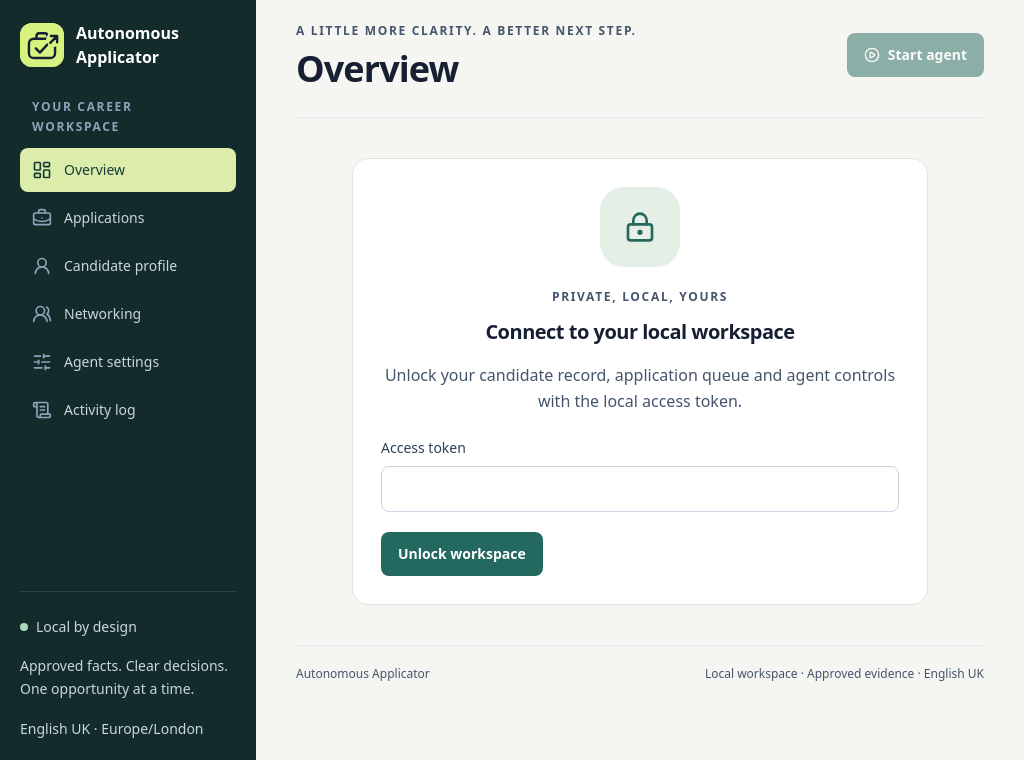
Test: opens and closes only the requested opportunity form
In the password field labelled "Access token": (640, 489) [381,466,899,512], type "fixture"
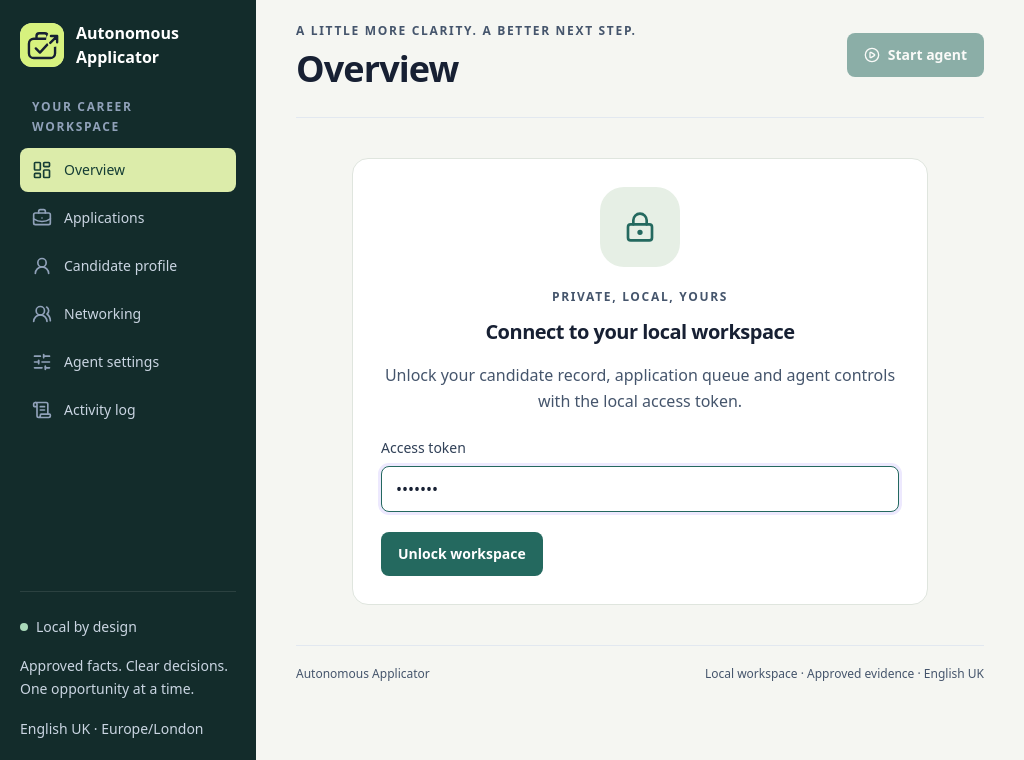
Click the button "Unlock workspace": (462, 554) [381,532,543,576]
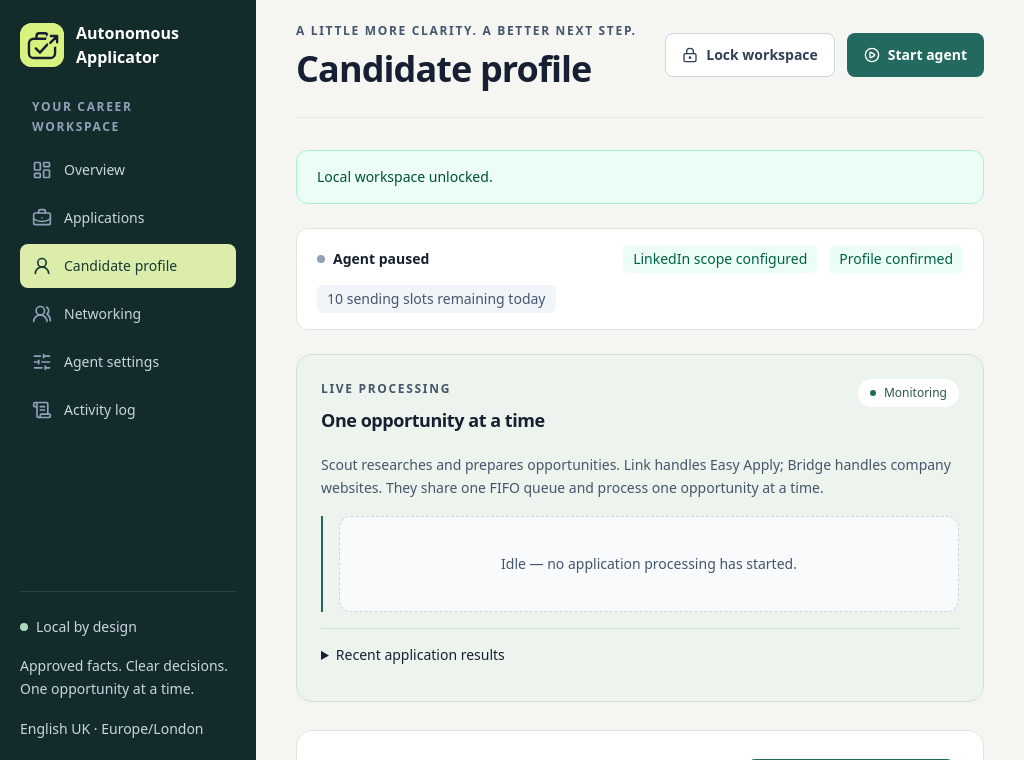
Check: the text "Local workspace unlocked." is shown, box [296,150,984,204]
Click the button "Applications": (128, 218) [20,196,236,240]
(page scrolled)
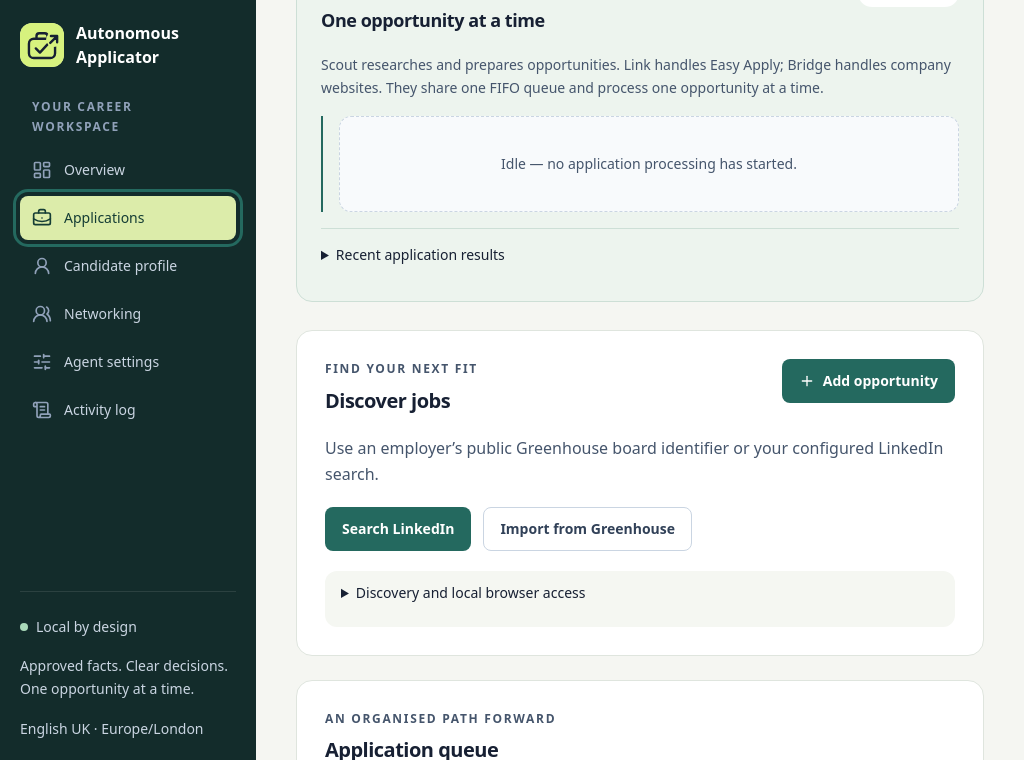
Click the button "Add opportunity": (868, 381) [782,359,955,403]
(page scrolled)
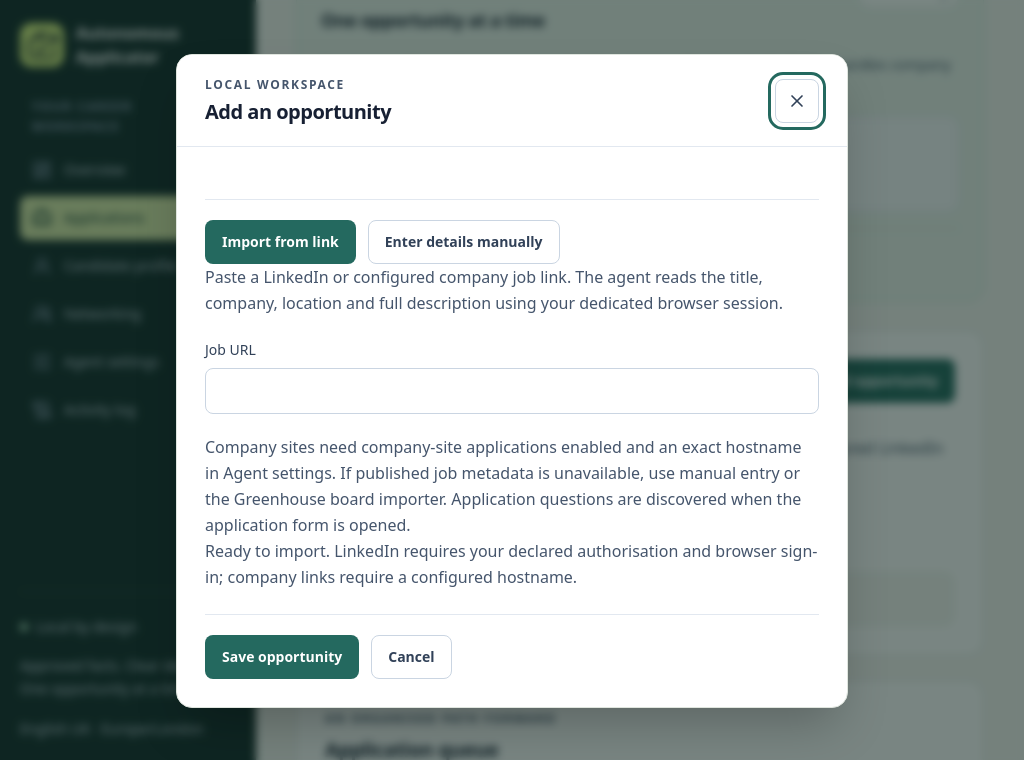
Click the button named "Close dialogue": (797, 100) [775,78,819,122]
(page scrolled)
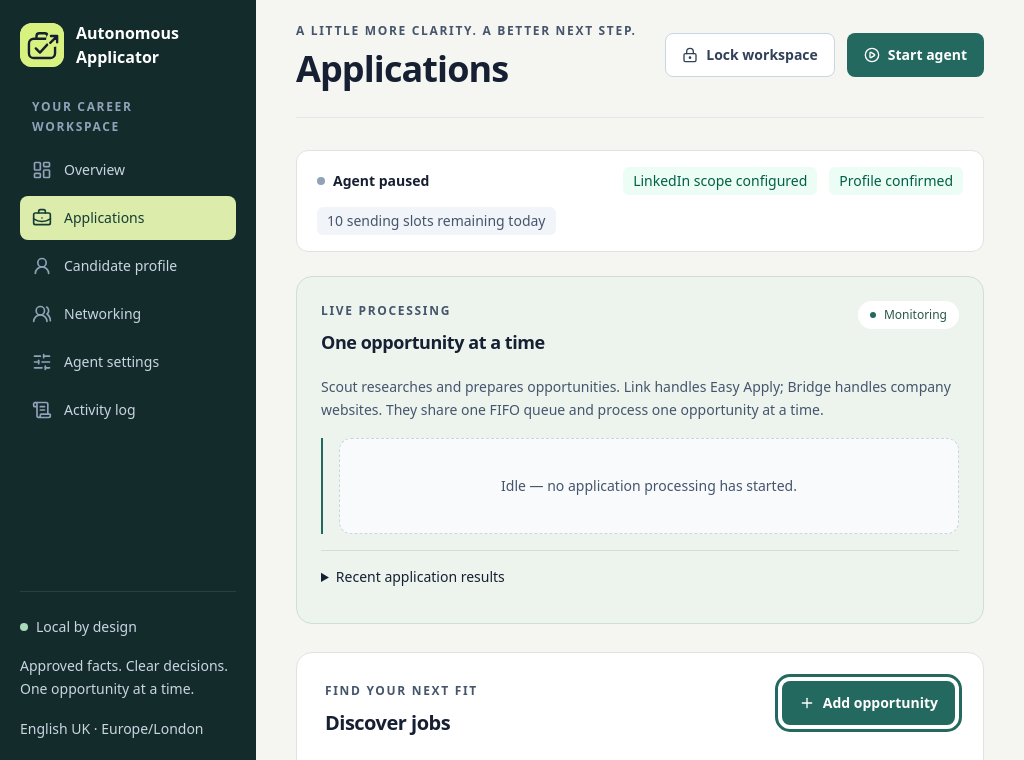
Check: the dialog is gone
Click the button "Lock workspace": (750, 55) [665,33,835,77]
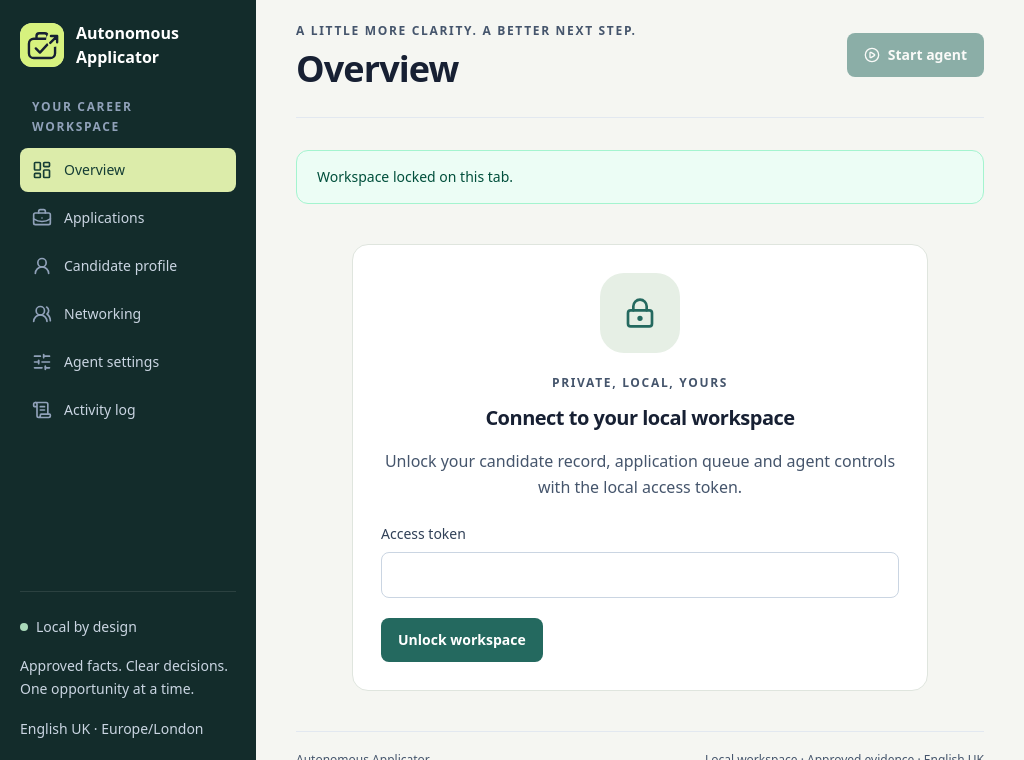
Check: the button "Unlock workspace" is shown, box [381,618,543,662]
